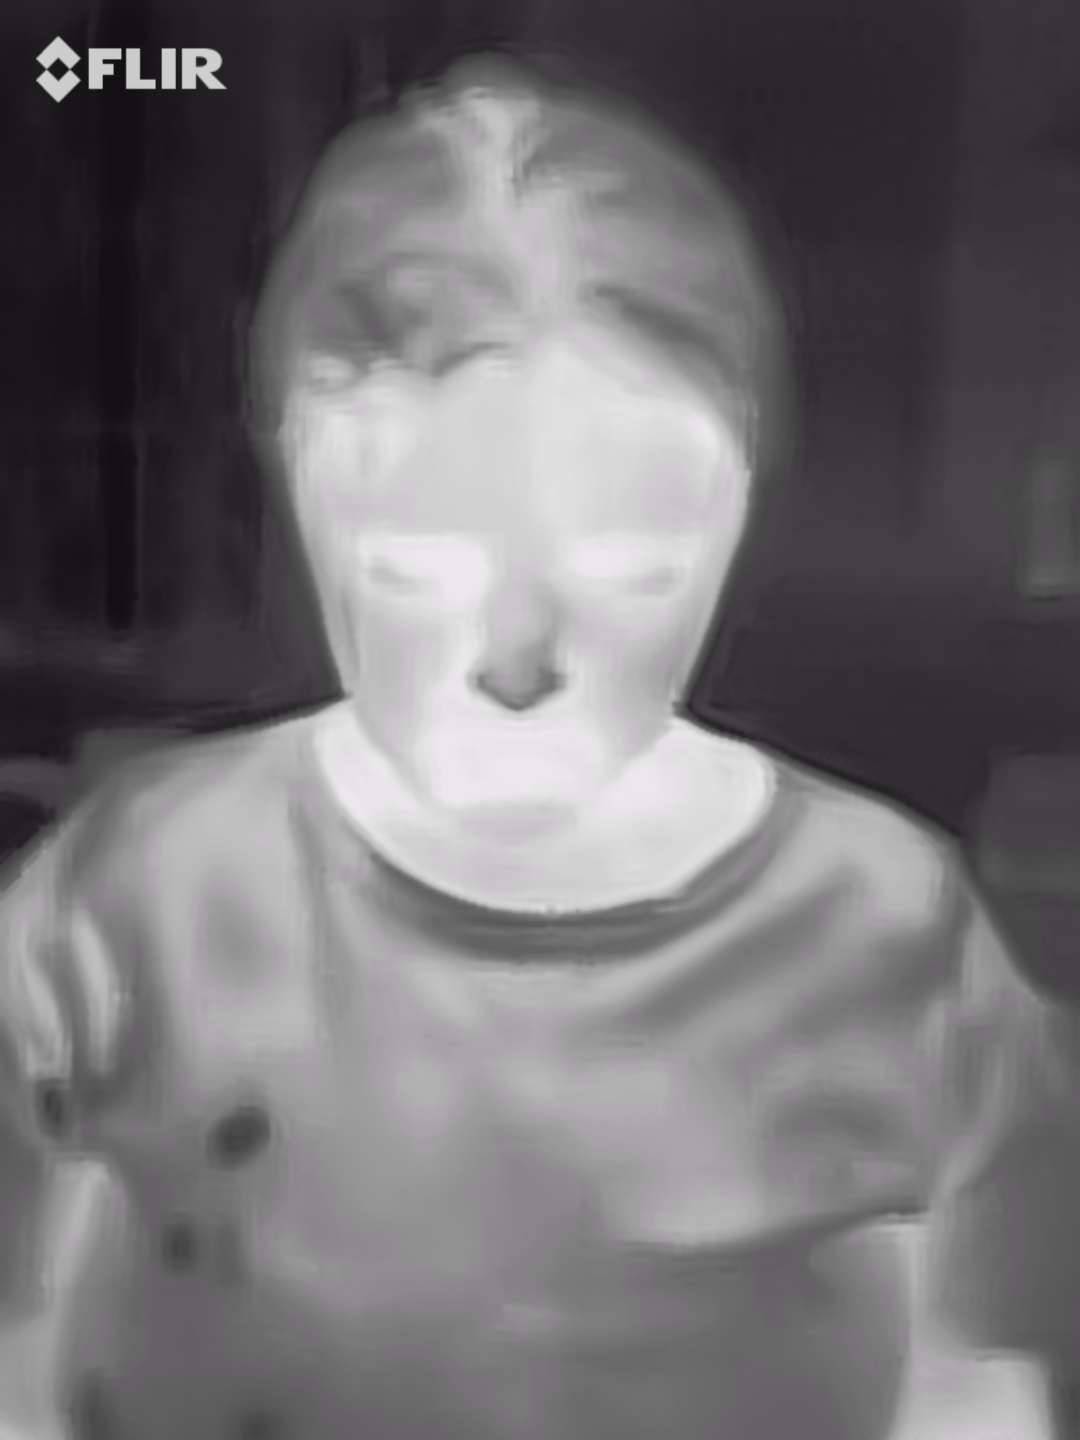head: (266, 57, 773, 840)
